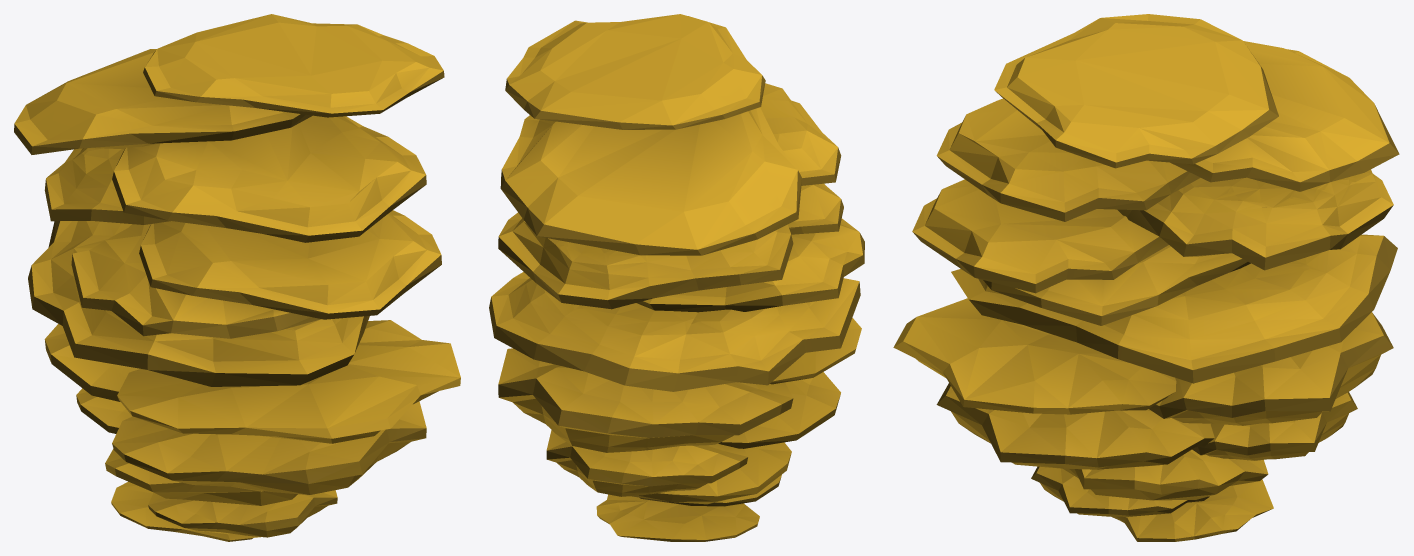
Rendered from swamp_fungus.glb.
3 views of the same model, side by side, from view 1: azimuth 30°, elevation 25°; view 2: azimuth 150°, elevation 25°; view 3: azimuth 270°, elevation 25° (orthographic). The views are drawn at different scales.
Bounding box in the file's own units: 0.5445 × 0.7 × 0.6723.
